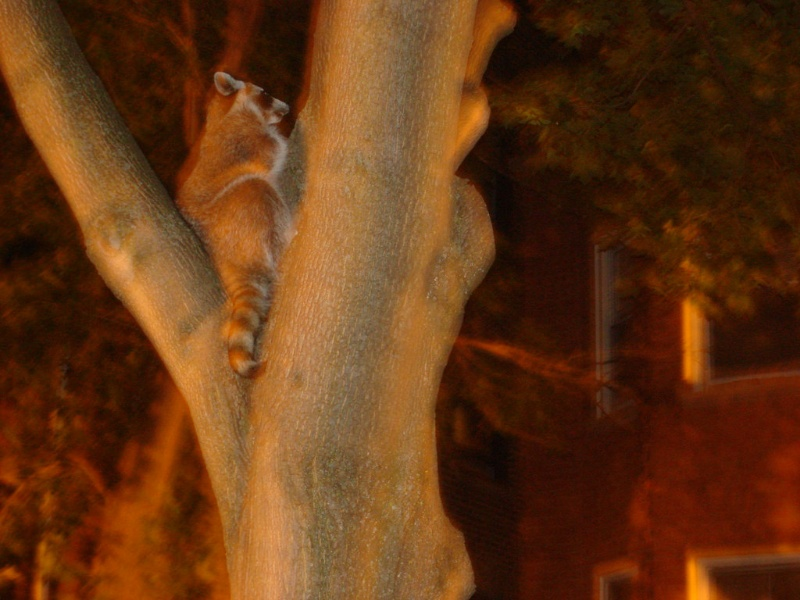raccoon: (171, 66, 298, 382)
